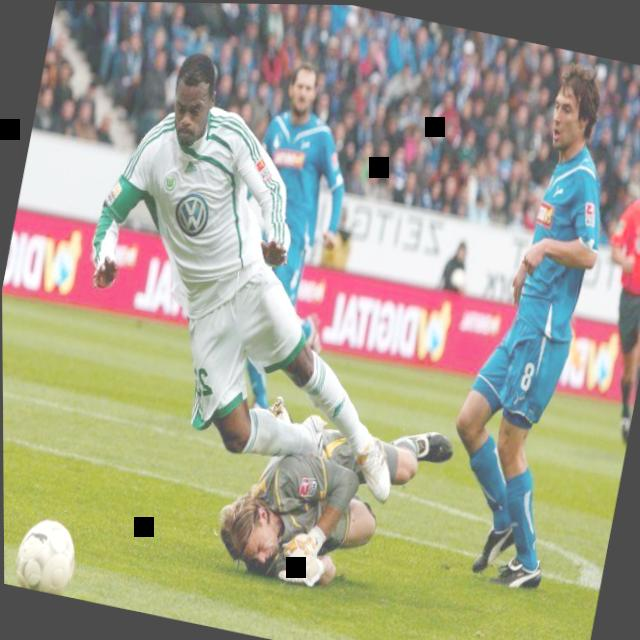Fall-Detected: (199, 361, 467, 621)
